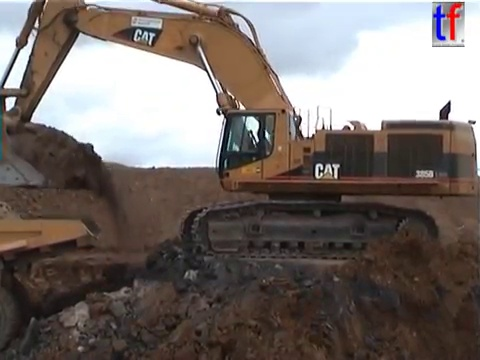excavator: (1, 1, 480, 263)
truck: (1, 211, 101, 352)
